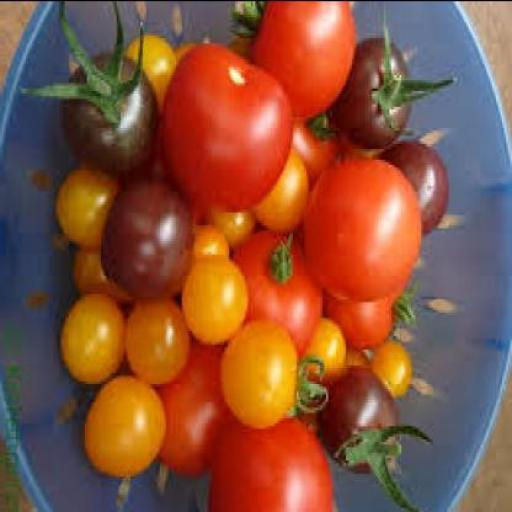biodegradable: (18, 1, 165, 169), (160, 34, 298, 206), (306, 154, 424, 298), (340, 8, 461, 146), (232, 1, 358, 121), (330, 364, 431, 510), (212, 414, 336, 510), (225, 320, 329, 426), (238, 230, 322, 361), (109, 172, 197, 292), (158, 337, 230, 475), (88, 372, 170, 475), (184, 248, 253, 335), (389, 137, 453, 230), (64, 288, 128, 380), (130, 293, 192, 385), (324, 290, 413, 346), (64, 164, 122, 242), (256, 146, 310, 226), (129, 32, 180, 108), (290, 108, 340, 185), (304, 311, 348, 383), (205, 198, 259, 248), (77, 240, 129, 290), (379, 338, 414, 388), (191, 216, 236, 254), (340, 124, 390, 158), (174, 37, 200, 69), (348, 343, 372, 367)
